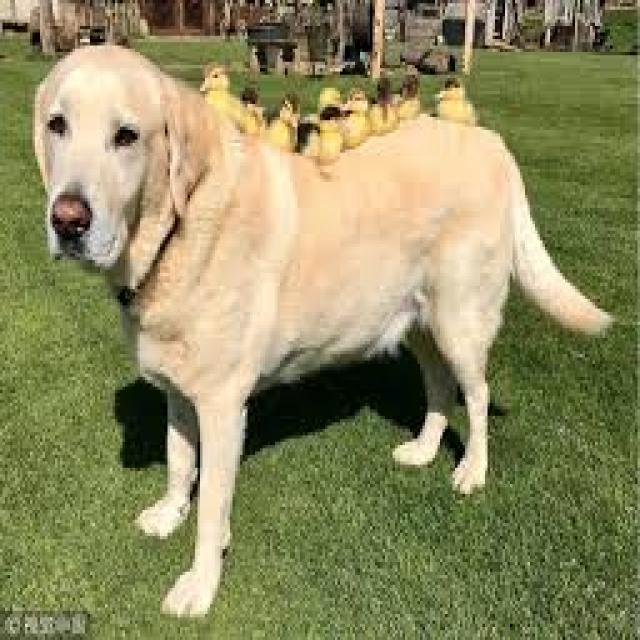dog: (35, 47, 612, 620)
